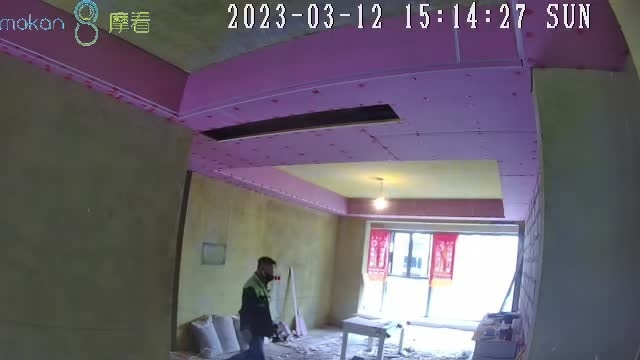people: (241, 255, 279, 360)
window: (361, 227, 518, 329)
